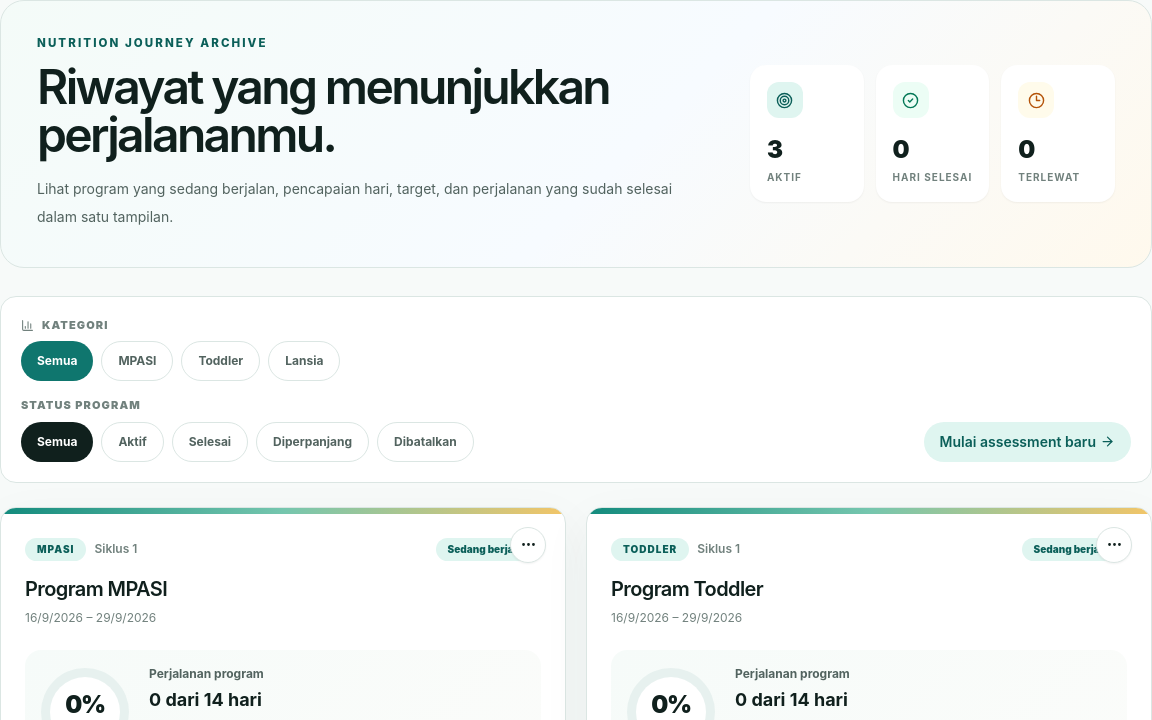
Test: nutrition guided program UX/state › filters nutrition history by MPASI, Toddler, and Lansia category
Expected: the heading "Program MPASI" is shown, [25,577,167,602]
Expected: the heading "Program Toddler" is shown, [611,577,763,602]
What coordinates should you click on to do the following:
click the button "Lansia"
I would click on:
 (304, 361)
Its box is [268,341,340,381].
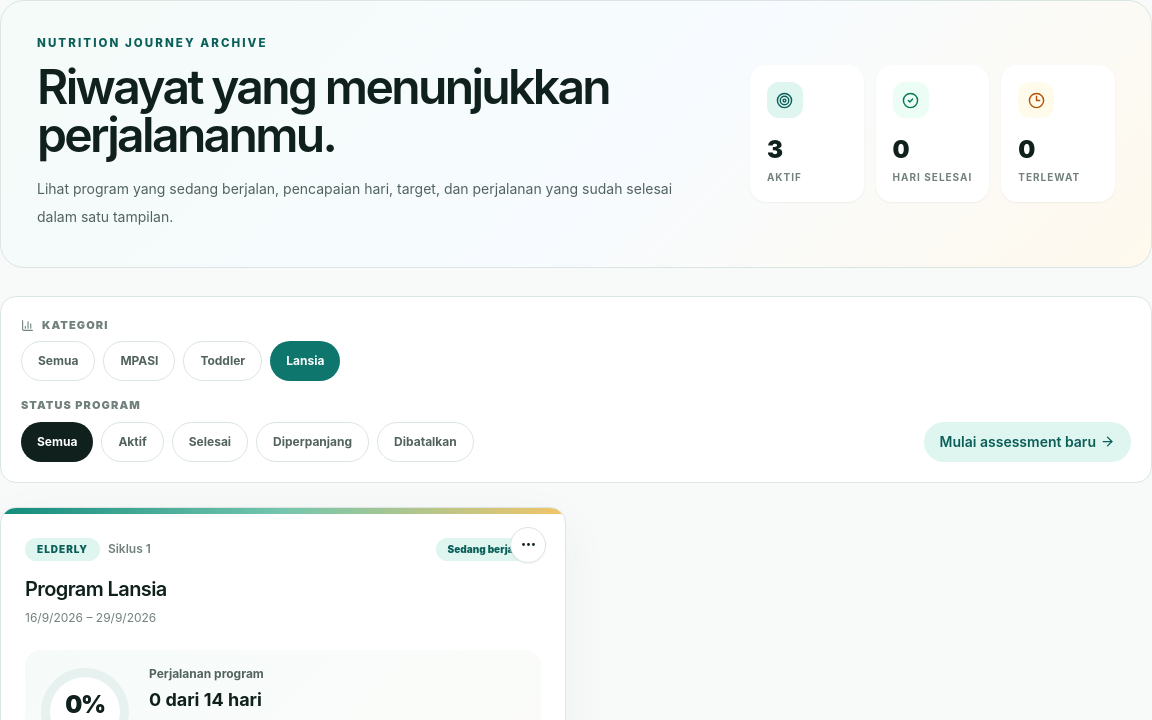
Expected: the heading "Program Lansia" is shown, [25,577,167,602]
Expected: the link "Program MPASI" is gone
Expected: the link "Program Toddler" is gone
What coordinates should you click on to do the following:
click the button "MPASI"
I would click on:
 (139, 361)
Its box is [103,341,175,381].
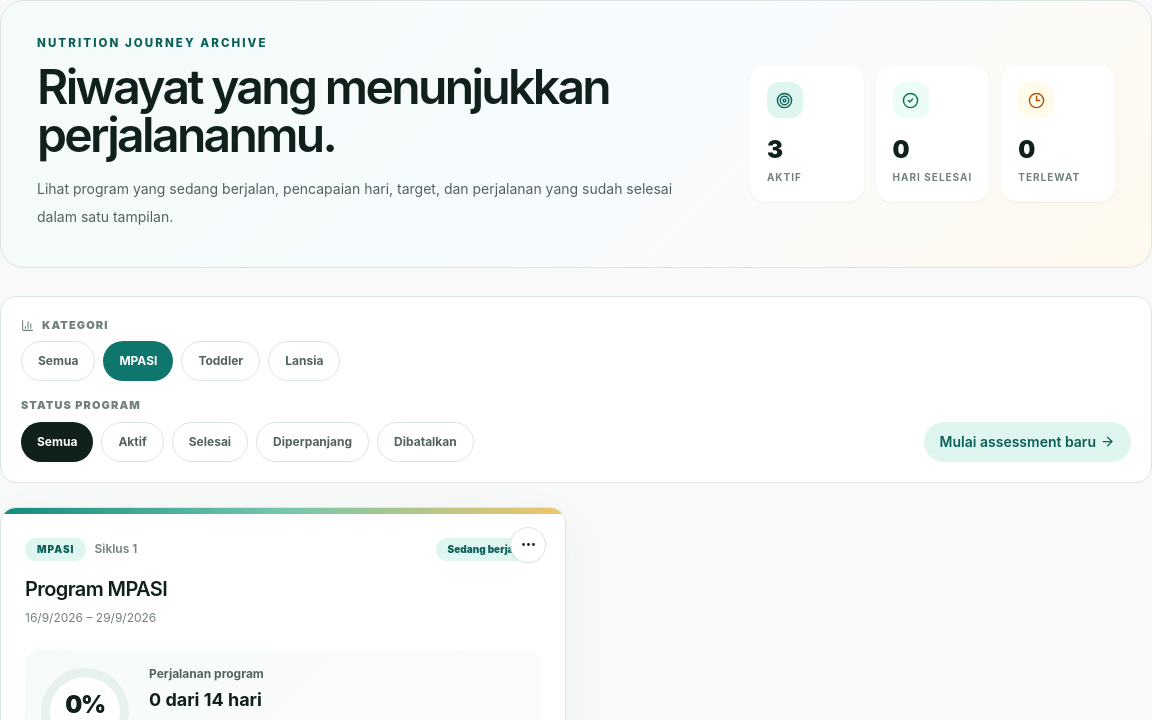
Expected: the heading "Program MPASI" is shown, [25,577,167,602]
Expected: the link "Program Lansia" is gone
